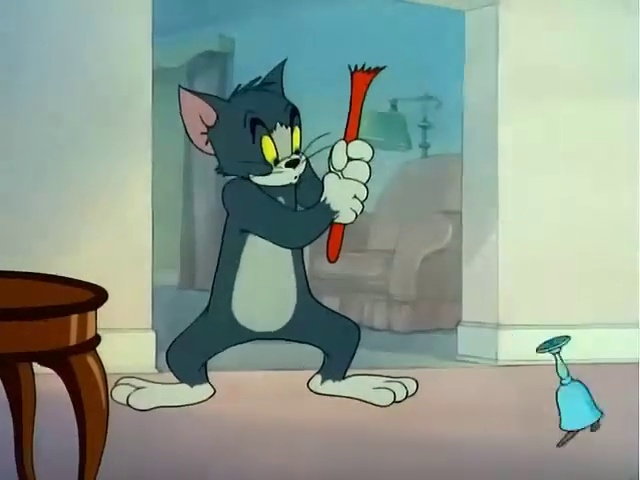tom: (115, 22, 438, 438)
